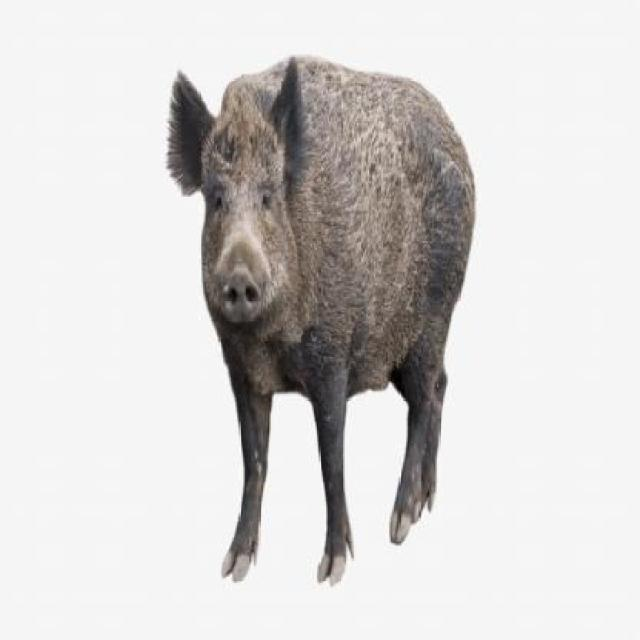wildboar: (165, 50, 478, 592)
